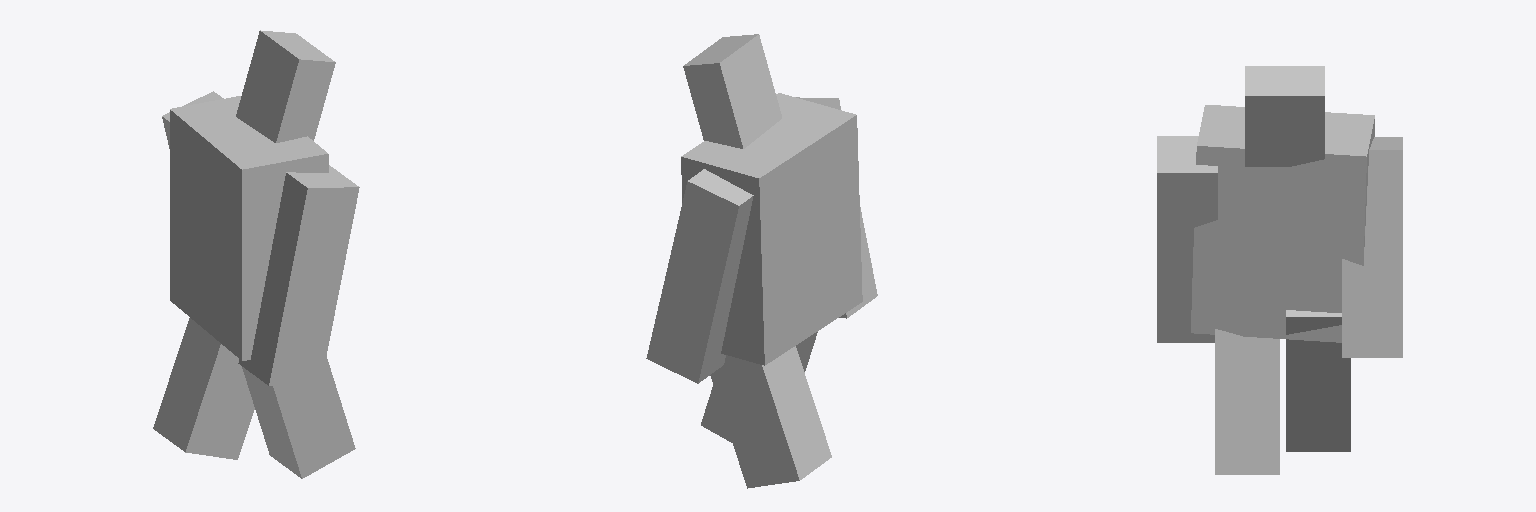
Rendered from walk_000025.obj.
3 views of the same model, side by side, from view 1: azimuth 30°, elevation 25°; view 2: azimuth 150°, elevation 25°; view 3: azimuth 270°, elevation 25° (orthographic).
Parts seen in each view (by area): view 1: Cube, leg.002_Cube.006, leg_Cube.001, Cube.001_Cube.003, leg.001_Cube.007; view 2: Cube, leg.003_Cube.002, leg_Cube.001, Cube.001_Cube.003, leg.002_Cube.006, leg.001_Cube.007; view 3: Cube, leg.003_Cube.002, leg.002_Cube.006, leg.001_Cube.007, leg_Cube.001, Cube.001_Cube.003, Plane.002.
Boxes of the visible parts, box(x1,y1,x2,y2) form: Cube: box(170, 96, 328, 360); leg.002_Cube.006: box(238, 165, 359, 385); leg_Cube.001: box(153, 318, 254, 459); Cube.001_Cube.003: box(236, 30, 335, 142); leg.001_Cube.007: box(242, 356, 355, 478); Cube: box(681, 93, 862, 365); leg.003_Cube.002: box(646, 169, 753, 383); leg_Cube.001: box(710, 346, 831, 488); Cube.001_Cube.003: box(683, 34, 781, 148); leg.002_Cube.006: box(796, 97, 877, 318); leg.001_Cube.007: box(701, 332, 817, 442); Cube: box(1191, 105, 1374, 342); leg.003_Cube.002: box(1342, 137, 1402, 357); leg.002_Cube.006: box(1157, 136, 1217, 342); leg.001_Cube.007: box(1215, 329, 1279, 474); leg_Cube.001: box(1286, 310, 1350, 451); Cube.001_Cube.003: box(1245, 66, 1324, 166); Plane.002: box(1260, 136, 1310, 160).
Size of the model in its own units: 2.2 by 6.32 by 3.47.